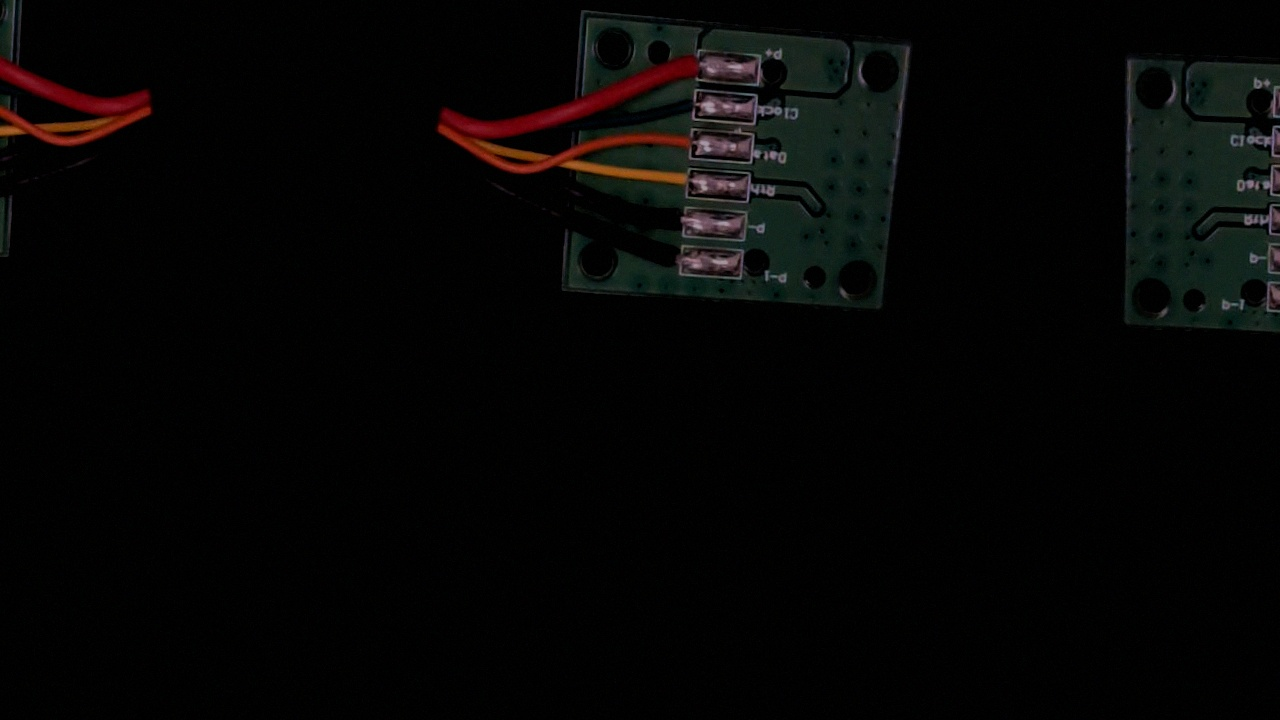Black: (636, 202, 705, 238)
Black1: (628, 240, 701, 277)
Green: (646, 88, 714, 124)
Orange: (640, 124, 711, 159)
Red: (648, 48, 717, 84)
Yellow: (643, 166, 709, 197)
